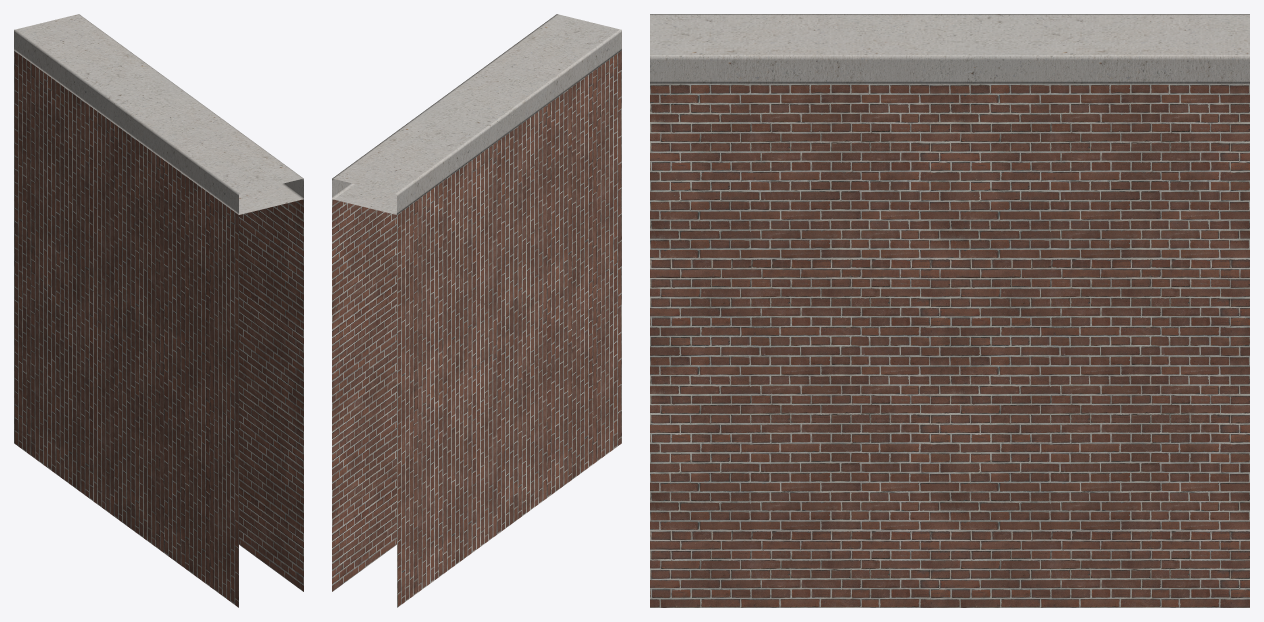
Rendered from BuildingC_Ledge_VarA_mdl.fbx.
The picture shows the model from 3 angles, left to right: view 1: azimuth 30°, elevation 25°; view 2: azimuth 150°, elevation 25°; view 3: azimuth 270°, elevation 25°; orthographic projection. The views are drawn at different scales.
Parts seen in each view (by area): view 1: BuildingC_Ledge_VarA_mdl; view 2: BuildingC_Ledge_VarA_mdl; view 3: BuildingC_Ledge_VarA_mdl.
Boxes of the visible parts, x1,y1,x2,y2 form: BuildingC_Ledge_VarA_mdl: (14,14,303,607); BuildingC_Ledge_VarA_mdl: (332,14,621,607); BuildingC_Ledge_VarA_mdl: (650,14,1249,607).
Size of the model in its own units: 50 by 305 by 300.
